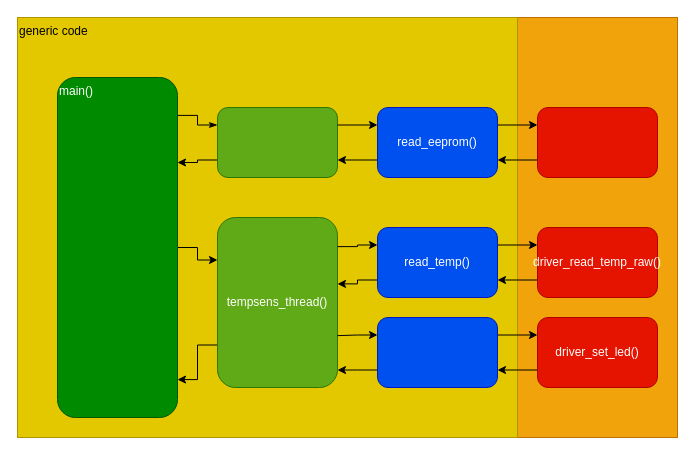
This 695x455 diagram has some shape labels left out. Here are the shapes that lost their labels. From the top down, the box of each, then its label:
(216, 106, 338, 178): tempsens_setup()
(536, 106, 658, 178): driver_read_eeprom()
(516, 16, 678, 438): device specific driver code
(376, 316, 498, 388): set_led()
